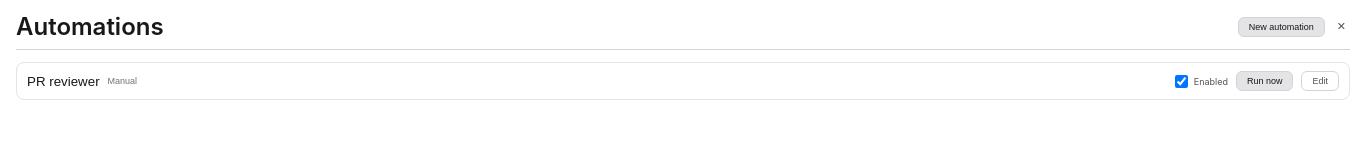
it: AutomationsPanel › does not flip the toggle optimistically and shows an inline error on rejection
Step 1. Click the checkbox with test id "automation-toggle-d1" → (1181, 81), box [1175,74,1188,88]
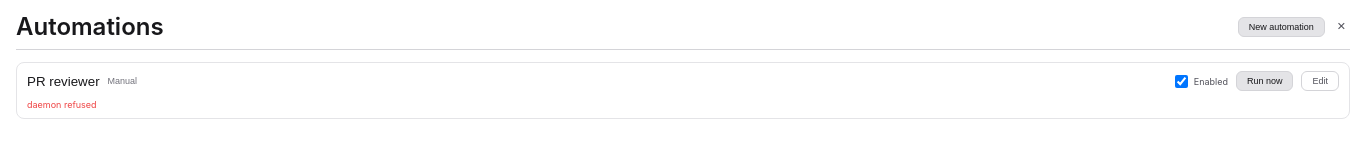
Expected: the text with test id "automation-toggle-error-d1" reads "daemon refused", [27,99,97,110]
